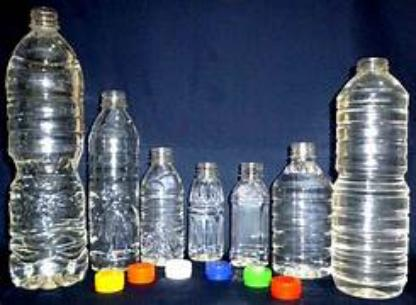Plastic Bottle: (2, 6, 86, 303), (332, 53, 413, 300), (82, 9, 148, 289), (272, 134, 336, 280), (136, 139, 190, 269), (178, 156, 230, 262), (232, 154, 272, 276)
